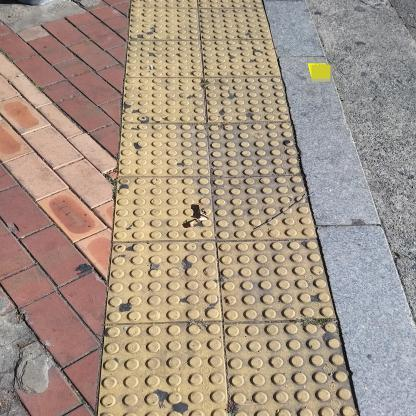podotacti: (88, 0, 367, 415)
